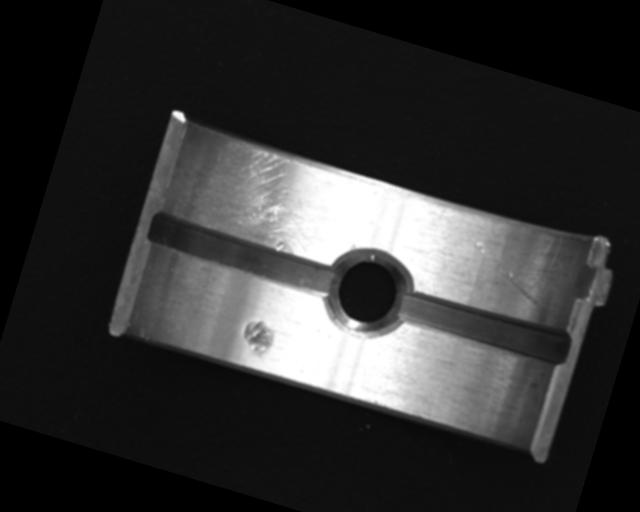bruise: (236, 316, 277, 362)
gap: (145, 208, 345, 302), (397, 286, 572, 370)
hole: (318, 237, 419, 345)
nick: (459, 237, 556, 310)
scratch: (169, 122, 362, 267)
